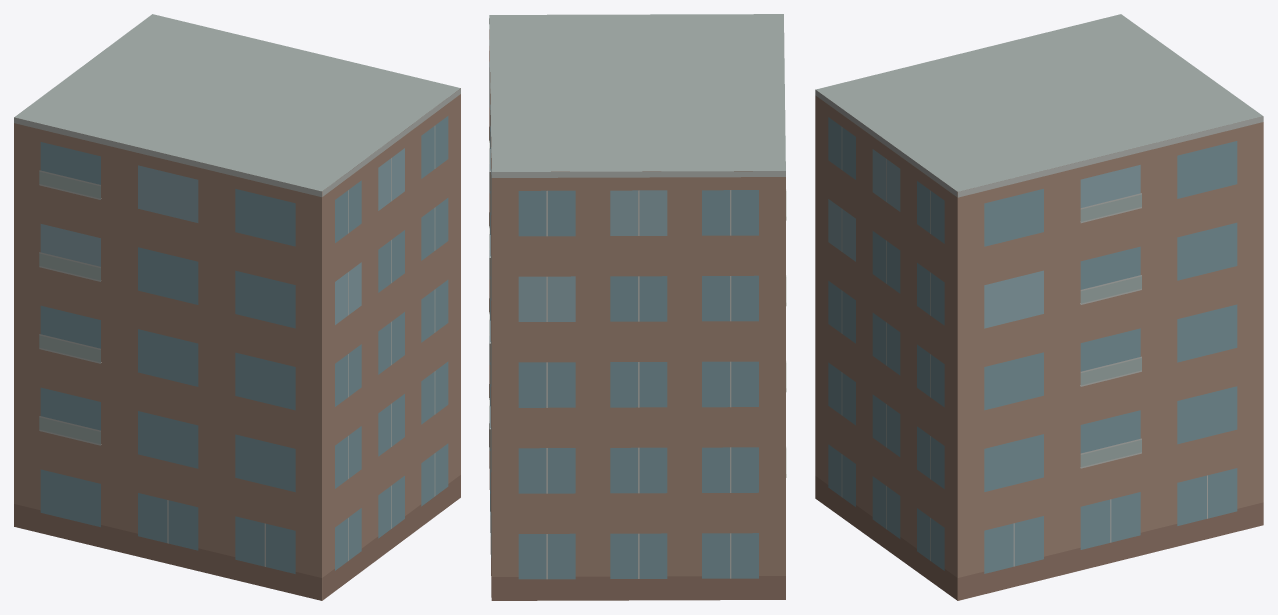
The model's file is survey-upis-32854692.glb.
The picture shows the model from 3 angles, left to right: view 1: azimuth 30°, elevation 25°; view 2: azimuth 150°, elevation 25°; view 3: azimuth 270°, elevation 25°; orthographic projection. The views are drawn at different scales.
Parts seen in each view (by area): view 1: survey-upis-32854692.tmp; view 2: survey-upis-32854692.tmp; view 3: survey-upis-32854692.tmp.
Part boxes in pixels (x1,y1,x2,y2): survey-upis-32854692.tmp: [14, 14, 460, 600]; survey-upis-32854692.tmp: [489, 14, 786, 600]; survey-upis-32854692.tmp: [815, 14, 1263, 600].
Size of the model in its own units: 16.13 by 17.28 by 17.17.
